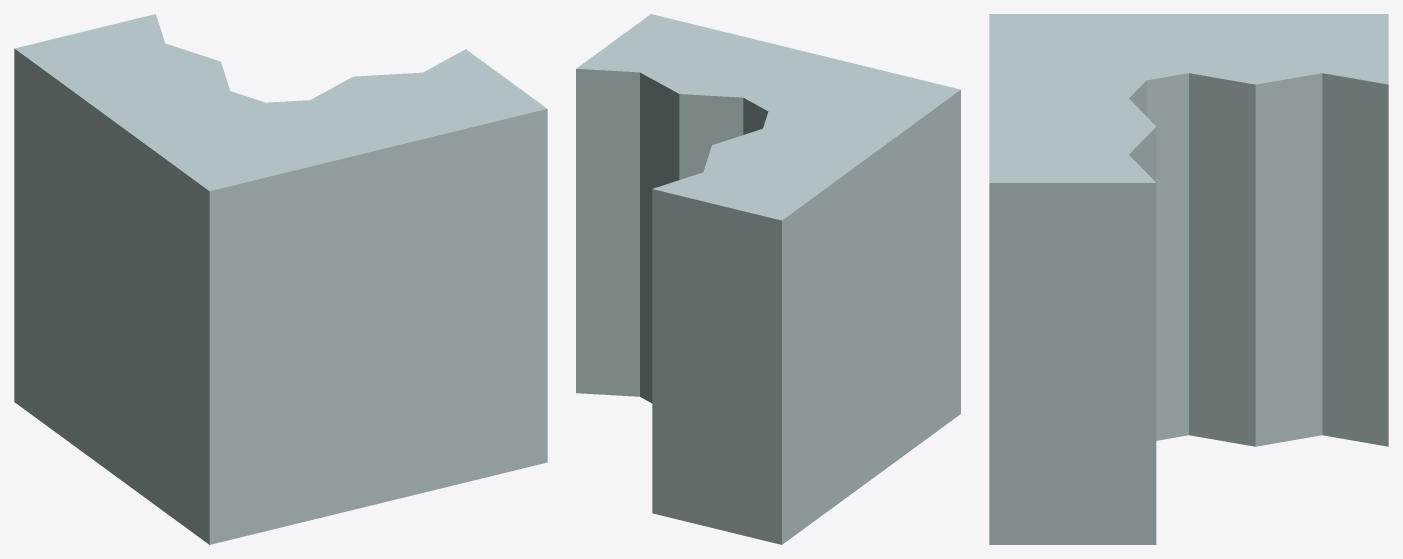
File: cliff_cornerInnerLarge_stone.glb
The picture shows the model from 3 angles, left to right: view 1: azimuth 30°, elevation 25°; view 2: azimuth 150°, elevation 25°; view 3: azimuth 270°, elevation 25°; orthographic projection. The views are drawn at different scales.
Visible parts, largest first — view 1: cliff_cornerInnerLarge_stone; view 2: cliff_cornerInnerLarge_stone; view 3: cliff_cornerInnerLarge_stone.
Boxes of the visible parts, x1,y1,x2,y2 form: cliff_cornerInnerLarge_stone: [14, 14, 547, 544]; cliff_cornerInnerLarge_stone: [576, 14, 960, 544]; cliff_cornerInnerLarge_stone: [989, 14, 1388, 544].
Size of the model in its own units: 1 by 1 by 1.
